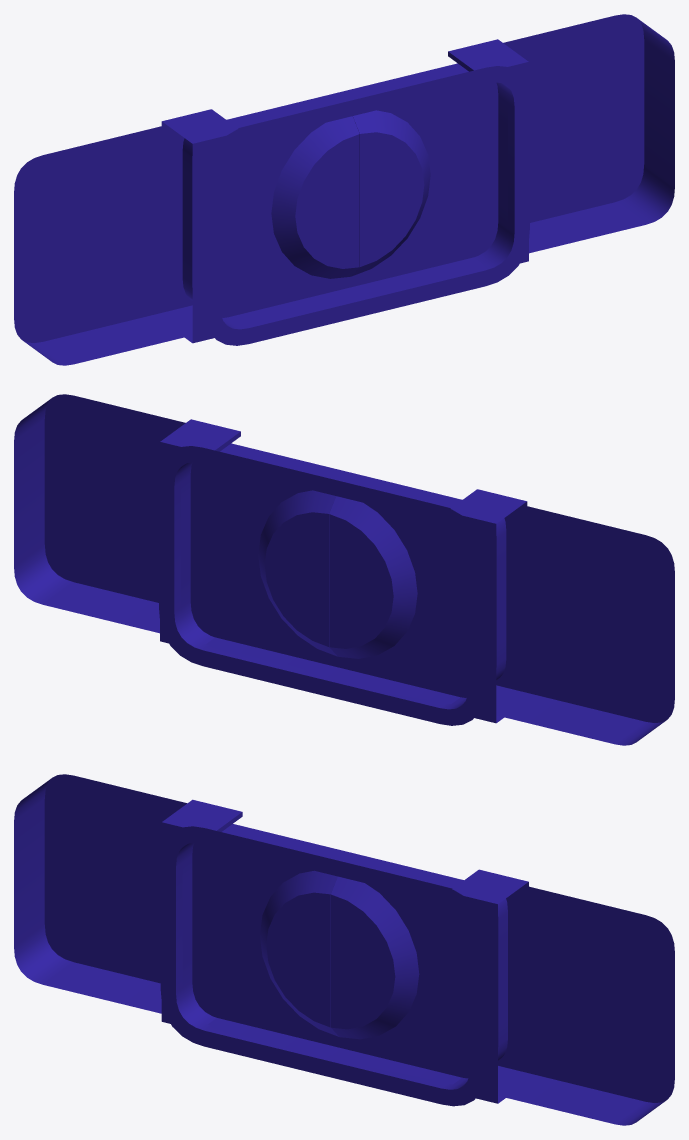
Rendered from Door_Big.FBX.
The picture shows the model from 3 angles, top to bottom: view 1: azimuth 30°, elevation 25°; view 2: azimuth 150°, elevation 25°; view 3: azimuth 330°, elevation 25°; orthographic projection.
Visible parts, largest first — view 1: Door_Big_Rama, Door_Big_R, Door_Big_L; view 2: Door_Big_Rama, Door_Big_R, Door_Big_L; view 3: Door_Big_Rama, Door_Big_L, Door_Big_R.
Boxes of the visible parts, box(x1,y1,x2,y2) form: Door_Big_Rama: box(14, 14, 674, 365); Door_Big_R: box(161, 92, 359, 343); Door_Big_L: box(340, 39, 528, 287); Door_Big_Rama: box(14, 394, 674, 745); Door_Big_R: box(329, 472, 527, 723); Door_Big_L: box(160, 419, 348, 667); Door_Big_Rama: box(14, 774, 674, 1125); Door_Big_L: box(331, 852, 528, 1103); Door_Big_R: box(161, 799, 350, 1047).
Bounding box in the file's own units: 826 × 274 × 100.
